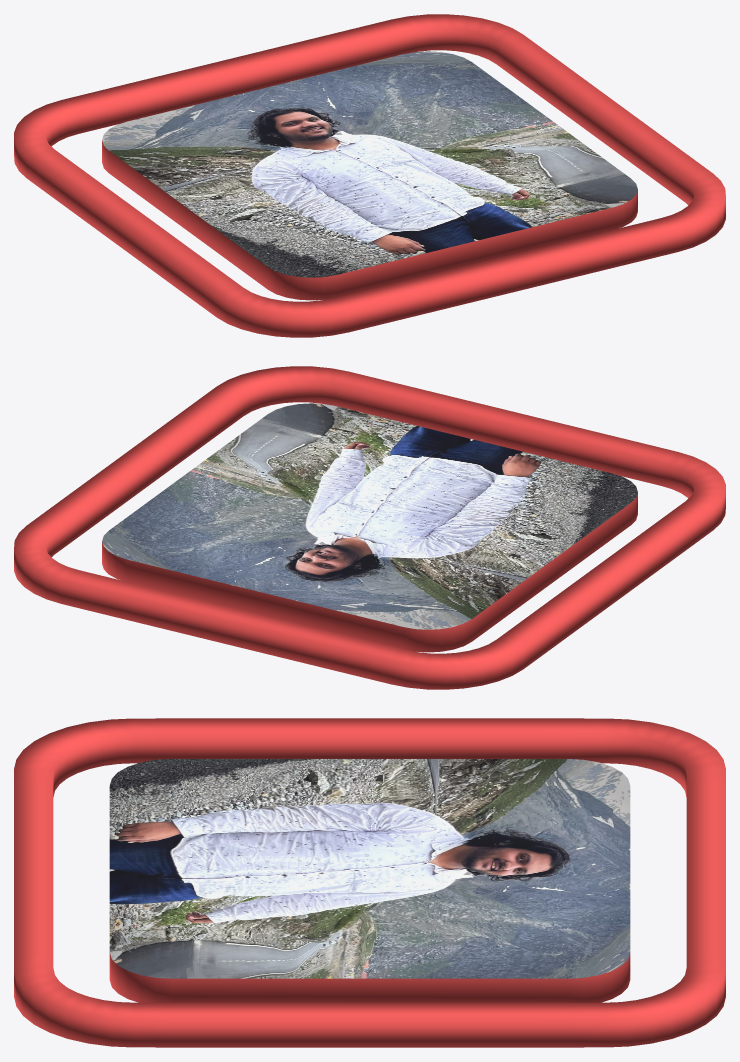
The model's file is shayan.gltf.
3 renders of one model, top to bottom at view 1: azimuth 30°, elevation 25°; view 2: azimuth 150°, elevation 25°; view 3: azimuth 270°, elevation 25°, orthographic. The views are drawn at different scales.
Visible parts, largest first — view 1: My image2.003, Plane, My image2; view 2: My image2.003, Plane, My image2; view 3: My image2.003, Plane, My image2.
Boxes of the visible parts, x1,y1,x2,y2 form: My image2.003: (102, 51, 637, 277); Plane: (14, 14, 725, 337); My image2: (102, 140, 637, 300); My image2.003: (102, 403, 637, 629); Plane: (14, 366, 725, 689); My image2: (102, 492, 637, 652); My image2.003: (109, 759, 630, 978); Plane: (14, 718, 725, 1047); My image2: (109, 953, 630, 1002).
Size of the model in its own units: 1.37 by 0.0598 by 1.37.
2 materials, 1 textured.
